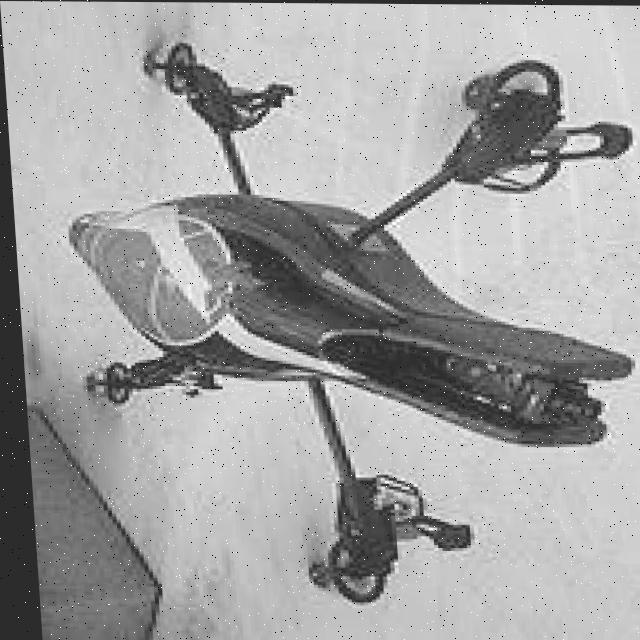drone: (35, 22, 640, 610)
